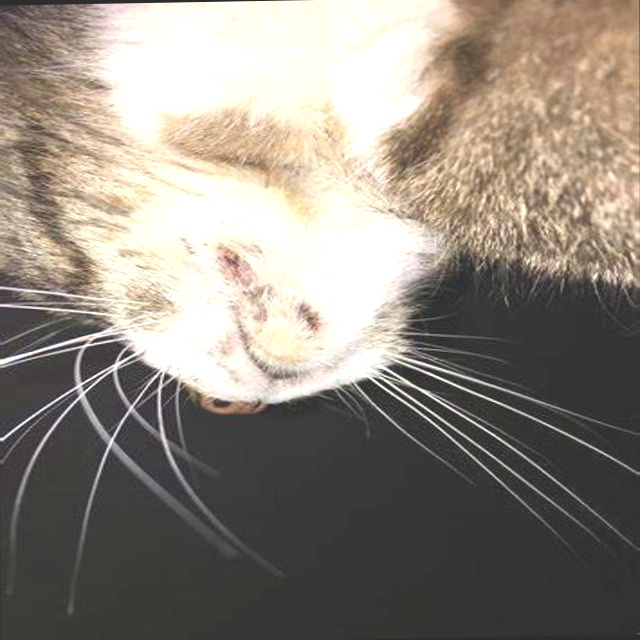acne: (214, 234, 324, 333)
